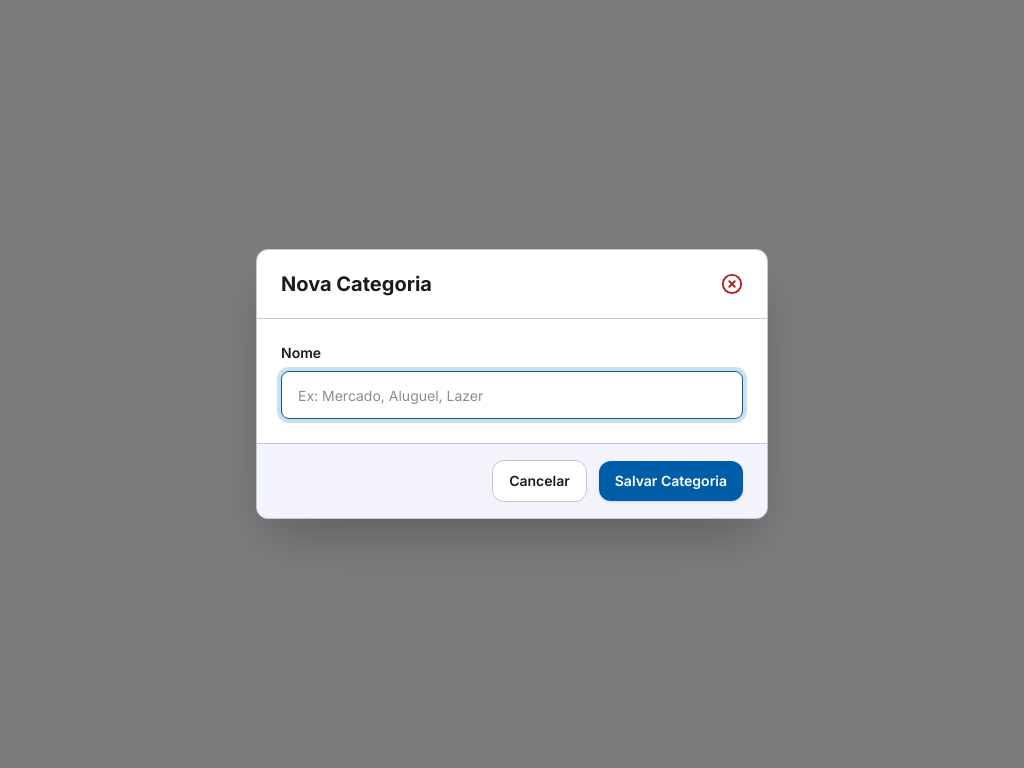
AddCategoryModal › shows error toast from API and keeps modal open on error
Type "Alimentação" into the field labelled "Nome" at (512, 395), box top-left (281, 371), bottom-right (743, 419)
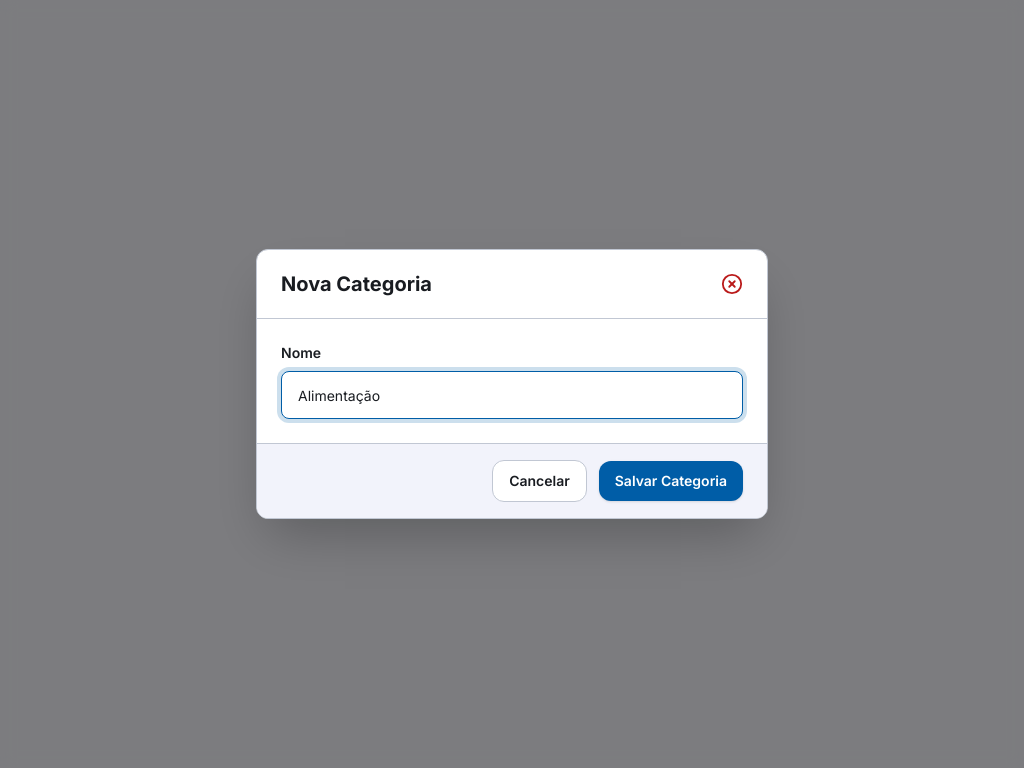
Click the button "Salvar Categoria" at (671, 481), box top-left (599, 461), bottom-right (743, 501)
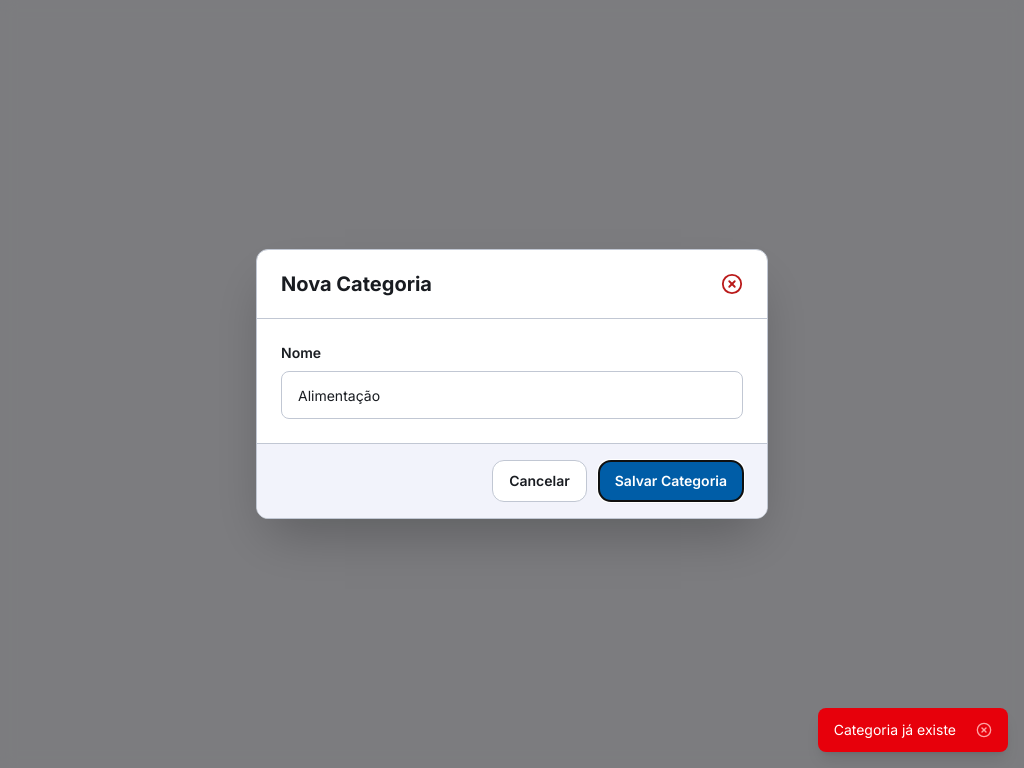
Check: the message reads "Categoria já existe", box top-left (834, 721), bottom-right (956, 738)
